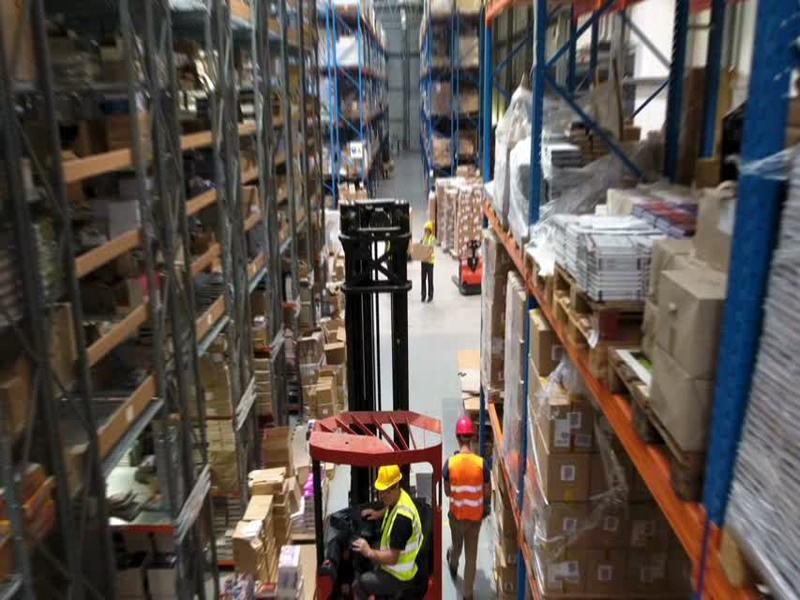hard-hat: (371, 462, 405, 493), (454, 414, 478, 439), (423, 220, 434, 233)
